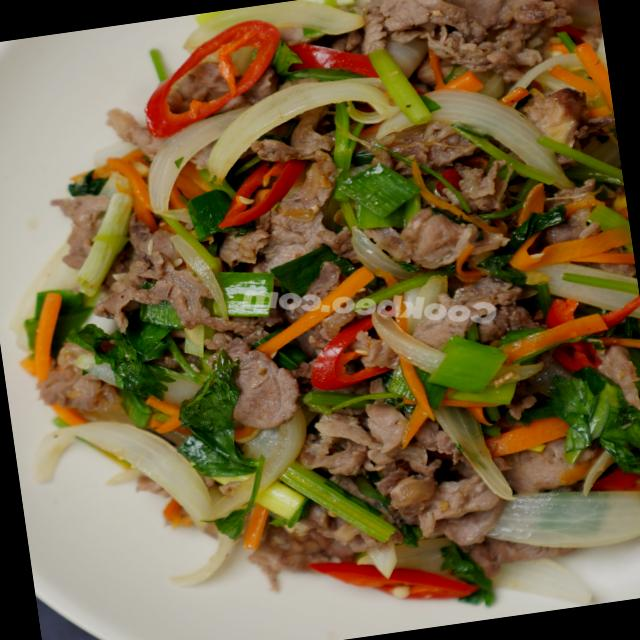bo xao: (24, 0, 640, 597)
ot: (146, 21, 280, 138), (312, 312, 398, 391), (311, 562, 477, 599)
